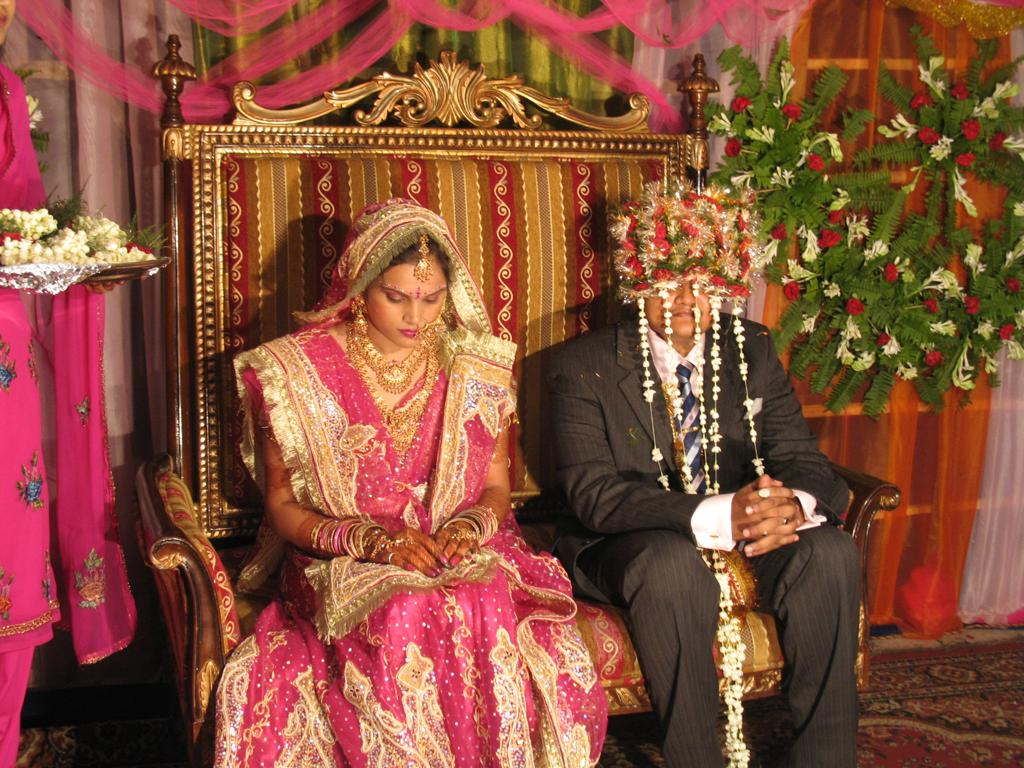face: (366, 256, 448, 346), (646, 244, 718, 340)
